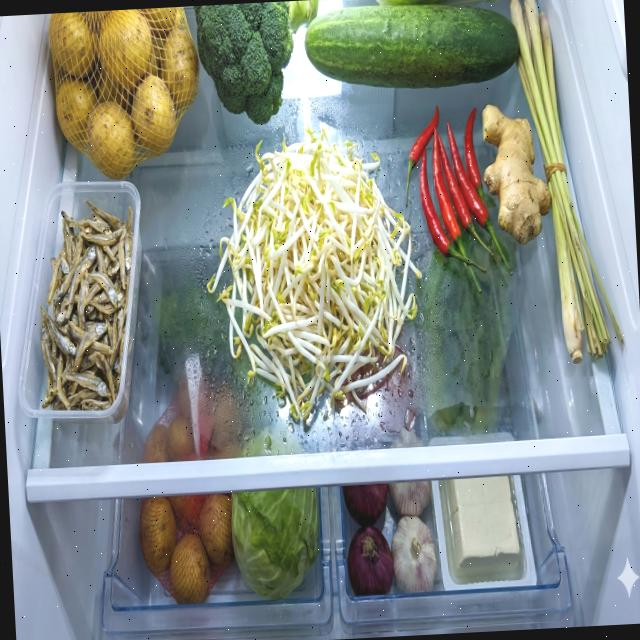anchovies: (31, 195, 144, 428)
bean_sprouts: (198, 114, 430, 424)
brocolli: (194, 2, 298, 128)
cabbage: (227, 426, 324, 604)
chili: (401, 102, 514, 297)
cucumber: (303, 0, 521, 95)
garlic: (388, 480, 440, 596)
ginger: (481, 100, 554, 247)
lemongrass: (509, 0, 624, 367)
onion: (342, 482, 396, 598)
potato: (48, 6, 205, 185), (132, 376, 248, 608)
tofu: (446, 475, 522, 579)
